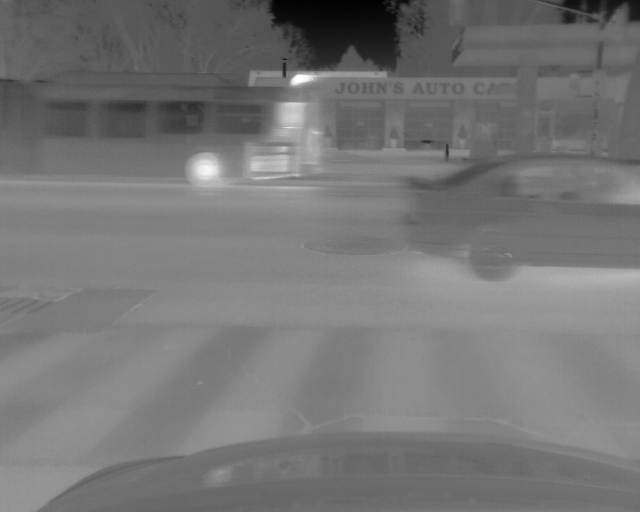car: (1, 71, 326, 188), (403, 153, 640, 285)
